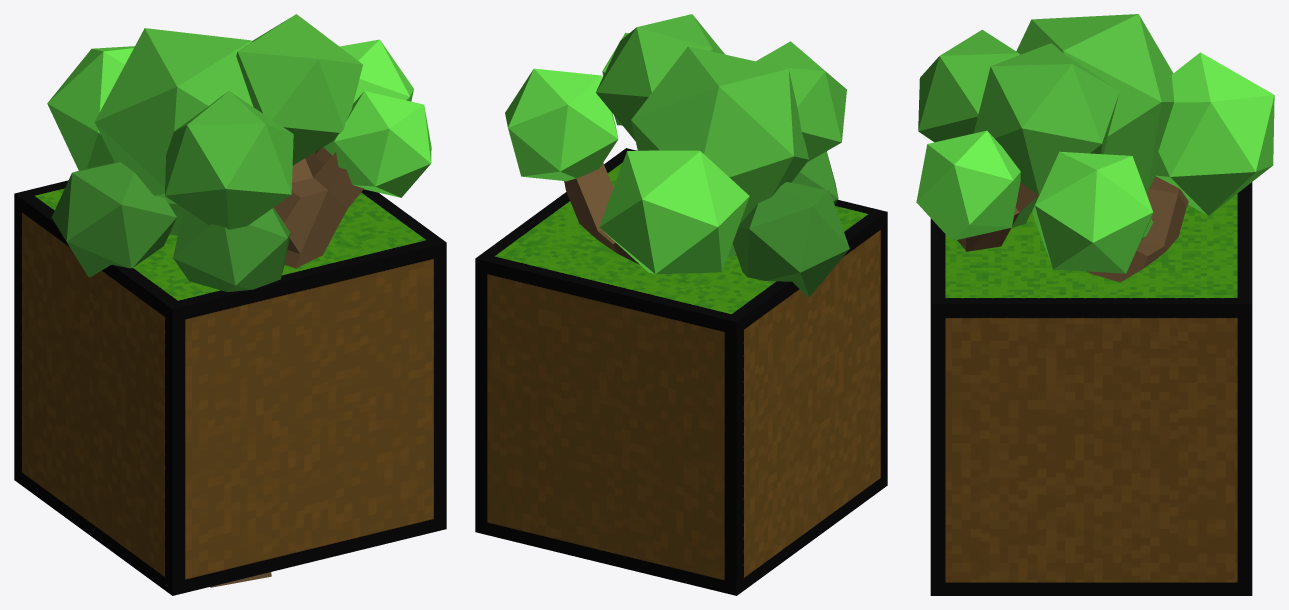
Rendered from BushBig2.glb.
The picture shows the model from 3 angles, left to right: view 1: azimuth 30°, elevation 25°; view 2: azimuth 150°, elevation 25°; view 3: azimuth 270°, elevation 25°; orthographic projection. The views are drawn at different scales.
Visible parts, largest first — view 1: Grass_v2Baked, Icosphere.029, Icosphere.026, Icosphere.023, Icosphere.027, Icosphere.021, Icosphere.002, Tree medium, Icosphere.022, Icosphere.024; view 2: Grass_v2Baked, Icosphere.029, Icosphere.022, Icosphere.024, Icosphere.027, Icosphere.023, Icosphere.026, Tree medium, Icosphere.002; view 3: Grass_v2Baked, Icosphere.022, Icosphere.023, Icosphere.029, Icosphere.024, Icosphere.021, Icosphere.026, Tree medium.
Part boxes in pixels (x1,y1,x2,y2): Grass_v2Baked: (14, 180, 446, 595); Icosphere.029: (94, 28, 253, 204); Icosphere.026: (165, 91, 293, 229); Icosphere.023: (236, 14, 362, 165); Icosphere.027: (51, 162, 176, 276); Icosphere.021: (334, 91, 431, 197); Icosphere.002: (173, 207, 290, 291); Tree medium: (210, 147, 363, 587); Icosphere.022: (47, 46, 134, 170); Icosphere.024: (323, 39, 413, 155); Grass_v2Baked: (475, 148, 887, 595); Icosphere.029: (631, 46, 808, 223); Icosphere.022: (599, 150, 749, 274); Icosphere.024: (505, 68, 618, 181); Icosphere.027: (732, 182, 849, 297); Icosphere.023: (596, 14, 724, 140); Icosphere.026: (756, 41, 846, 161); Tree medium: (564, 163, 639, 264); Icosphere.002: (791, 151, 838, 204); Grass_v2Baked: (930, 182, 1252, 595); Icosphere.022: (1155, 52, 1274, 215); Icosphere.023: (973, 43, 1119, 194); Icosphere.029: (1016, 14, 1174, 196); Icosphere.024: (1032, 151, 1153, 273); Icosphere.021: (916, 130, 1020, 240); Icosphere.026: (918, 29, 1020, 142); Tree medium: (957, 176, 1188, 282).
Bounding box in the file's own units: 1.27 × 1.84 × 1.09.
Materials: 6 (1 with a texture image).
